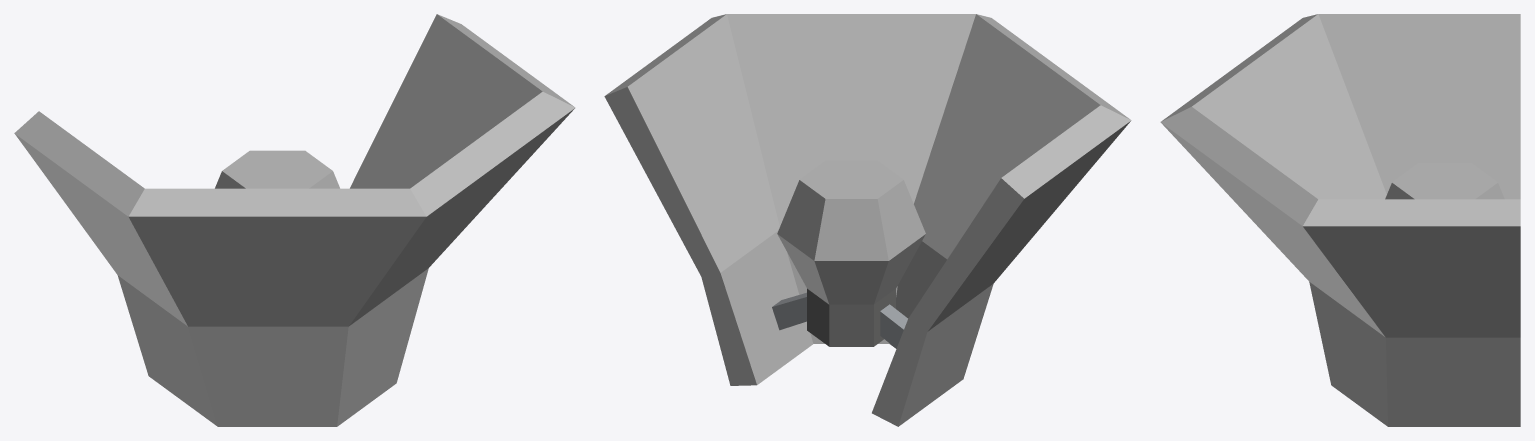
File: SM_Prop_WallLight_01.fbx
The picture shows the model from 3 angles, left to right: view 1: azimuth 30°, elevation 25°; view 2: azimuth 150°, elevation 25°; view 3: azimuth 270°, elevation 25°; orthographic projection. The views are drawn at different scales.
Visible parts, largest first — view 1: SM_Prop_WallLight_01; view 2: SM_Prop_WallLight_01; view 3: SM_Prop_WallLight_01.
Part boxes in pixels (left/top/right/bottom): SM_Prop_WallLight_01: left=14, top=14, right=575, bottom=426; SM_Prop_WallLight_01: left=604, top=14, right=1131, bottom=426; SM_Prop_WallLight_01: left=1160, top=14, right=1520, bottom=426.
Bounding box in the file's own units: 28.38 × 17.7 × 20.74.
